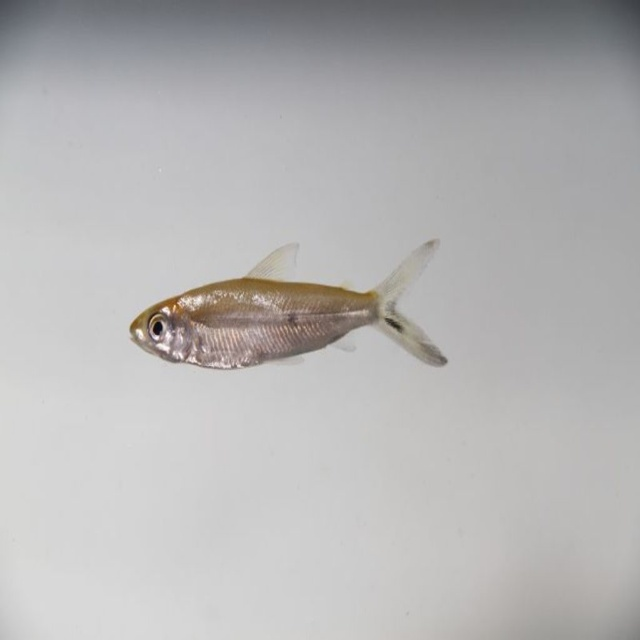Fish: (131, 232, 450, 385)
